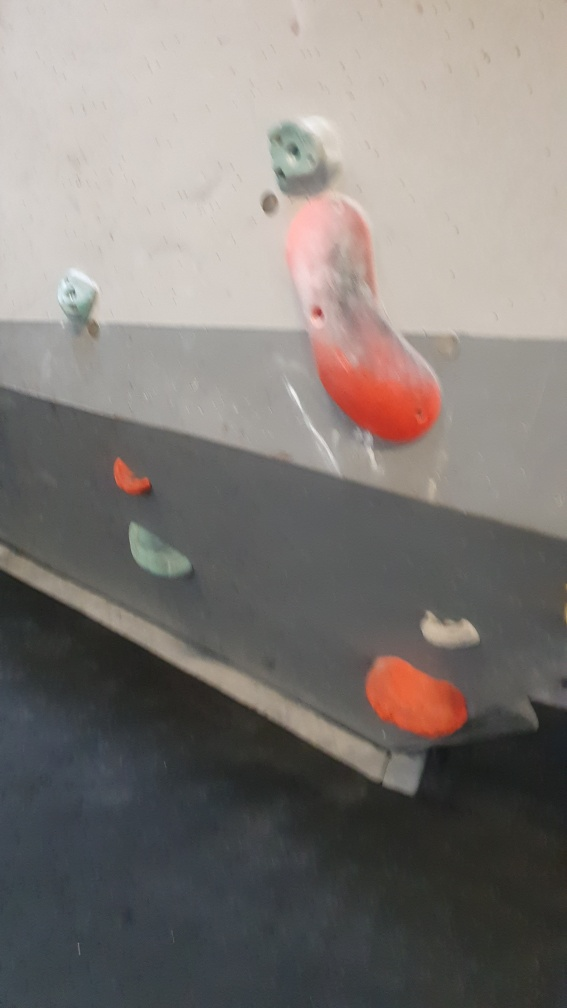Pinch: (275, 193, 446, 443)
